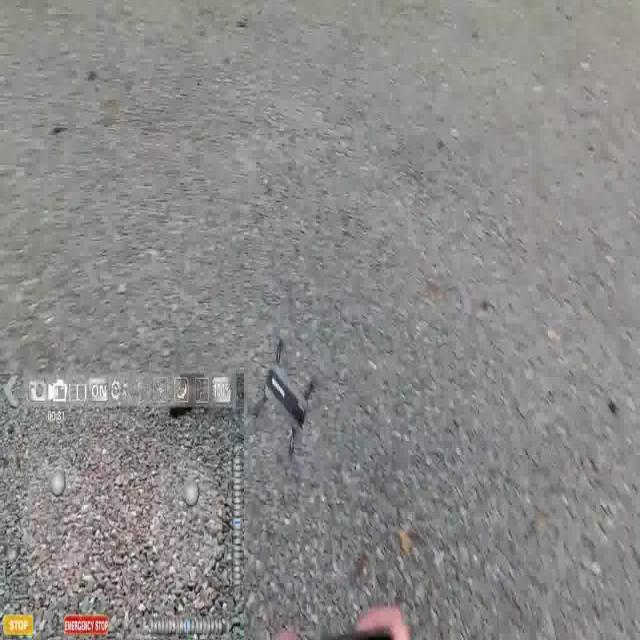drones: (240, 326, 322, 468)
